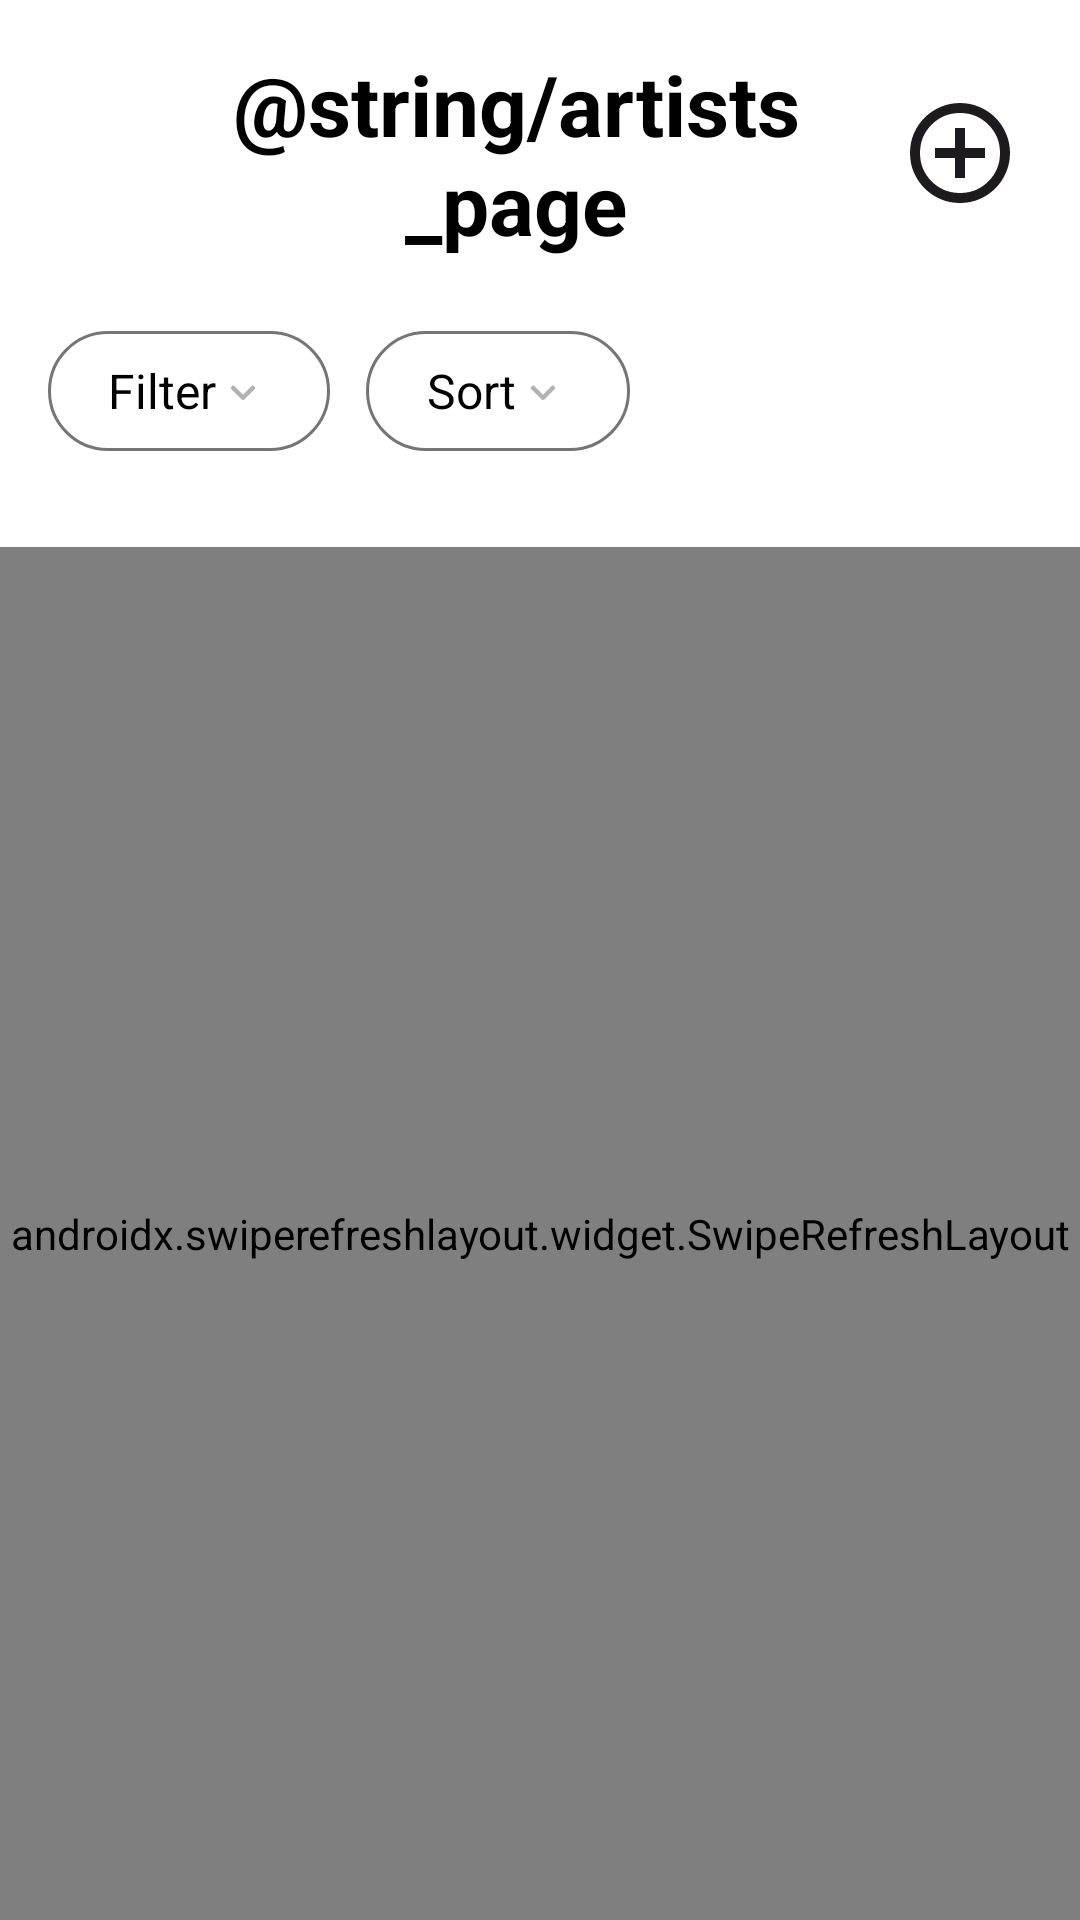

Icons on this 1080 × 1920 Android screen, each with the point to tap as (x,y):
Add Collector: (960,153)
